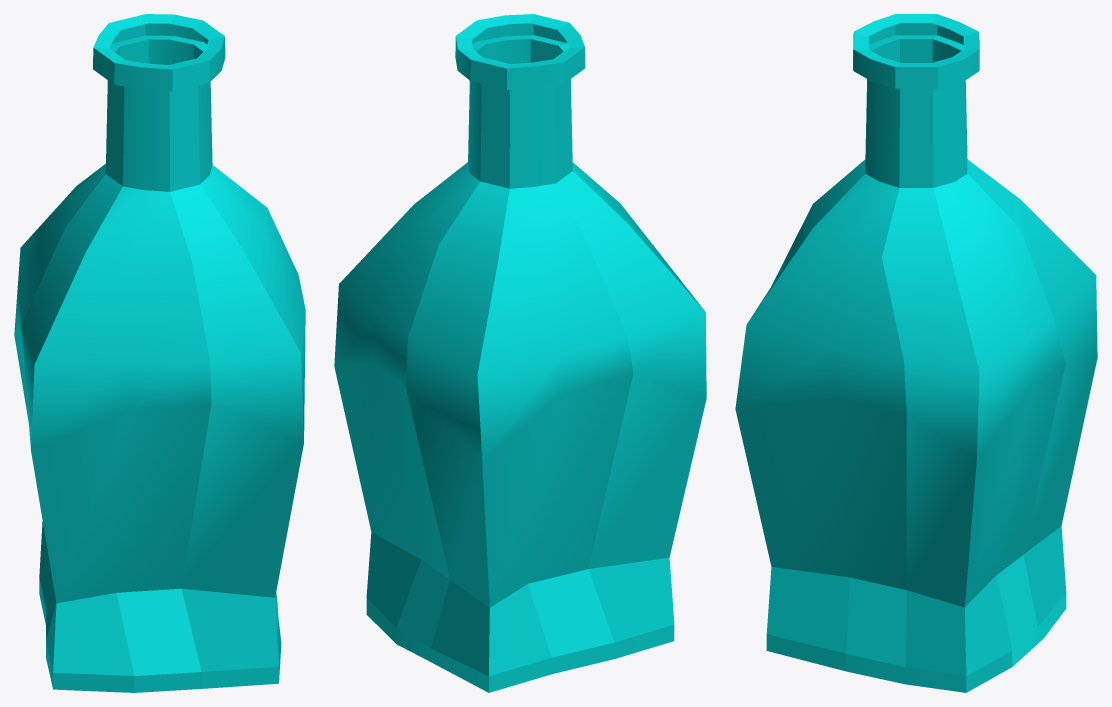
Rendered from potion4.fbx.
3 views of the same model, side by side, from view 1: azimuth 30°, elevation 25°; view 2: azimuth 150°, elevation 25°; view 3: azimuth 270°, elevation 25° (orthographic).
Visible parts, largest first — view 1: pCube6; view 2: pCube6; view 3: pCube6.
Boxes of the visible parts, <box> form: pCube6: <box>14,14,305,692</box>; pCube6: <box>334,14,706,692</box>; pCube6: <box>735,14,1097,692</box>.
Size of the model in its own units: 3.23 by 5.8 by 3.23.
